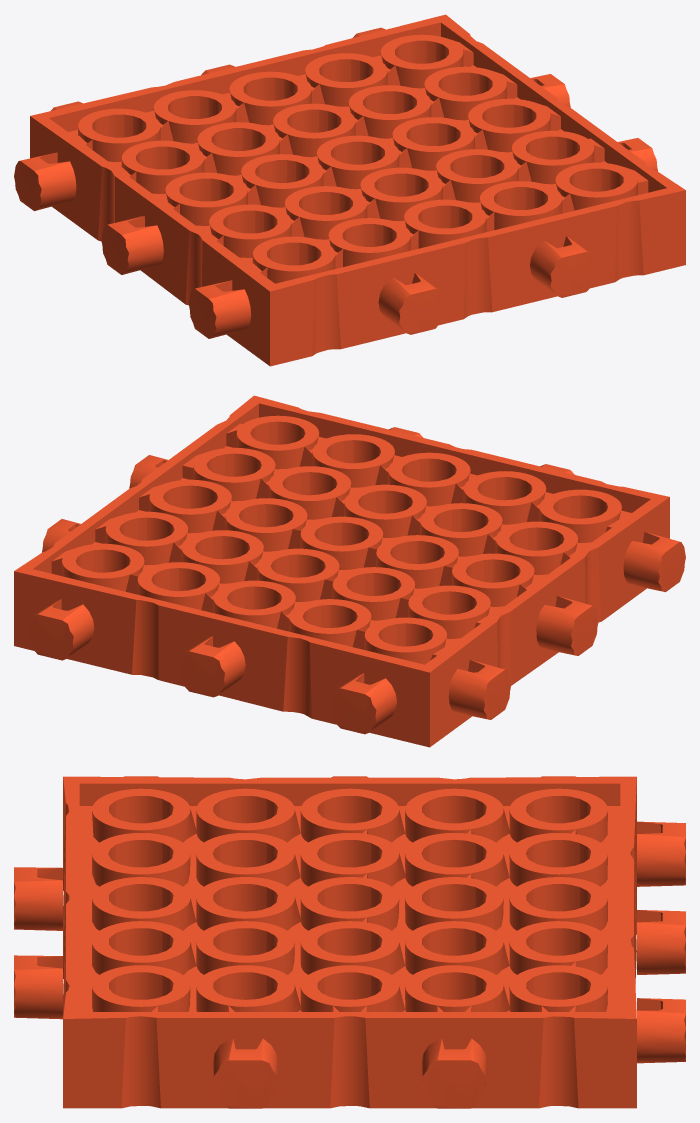
The model's file is Detail5x5.FBX.
The picture shows the model from 3 angles, top to bottom: view 1: azimuth 30°, elevation 25°; view 2: azimuth 150°, elevation 25°; view 3: azimuth 270°, elevation 25°; orthographic projection. The views are drawn at different scales.
Parts seen in each view (by area): view 1: Ð_Ð_Ð_Ð_Ð__10; view 2: Ð_Ð_Ð_Ð_Ð__10; view 3: Ð_Ð_Ð_Ð_Ð__10.
Part boxes in pixels (x1,y1,x2,y2): Ð_Ð_Ð_Ð_Ð__10: (14,14,685,366); Ð_Ð_Ð_Ð_Ð__10: (14,395,685,747); Ð_Ð_Ð_Ð_Ð__10: (14,776,685,1108).
Size of the model in its own units: 40.88 by 6 by 40.88.
